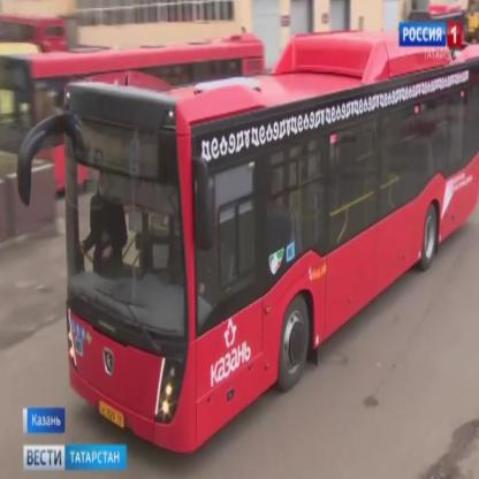bus: (53, 43, 479, 458), (1, 32, 271, 187), (1, 8, 69, 54)
